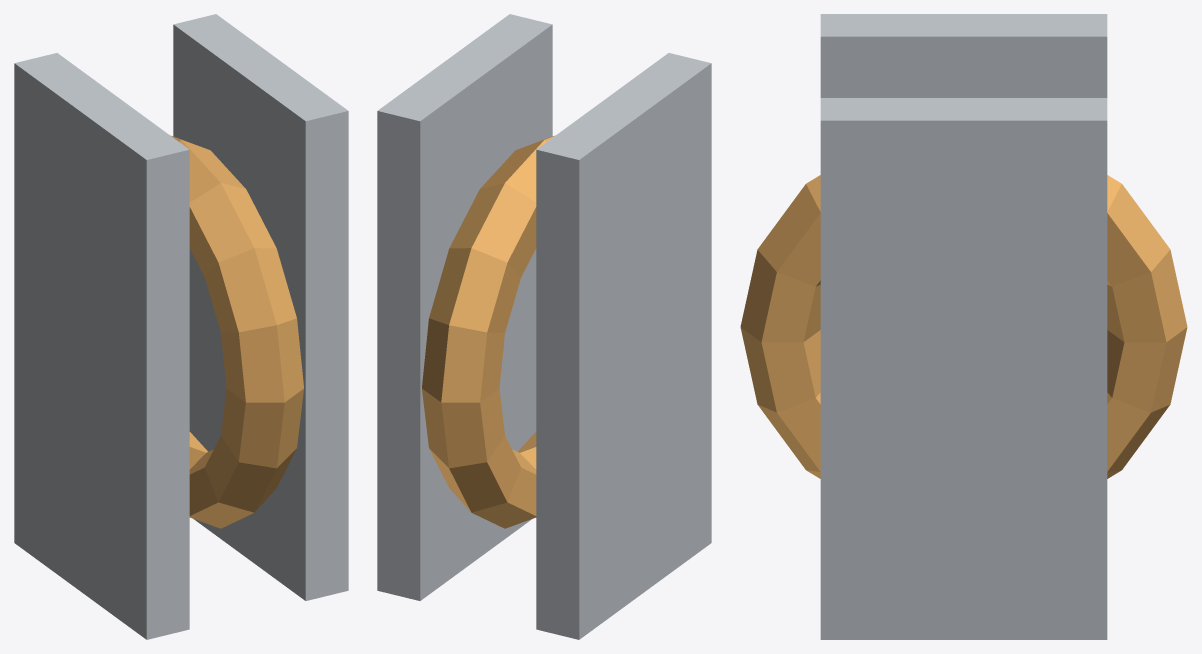
Rendered from pulley_block.glb.
The picture shows the model from 3 angles, left to right: view 1: azimuth 30°, elevation 25°; view 2: azimuth 150°, elevation 25°; view 3: azimuth 270°, elevation 25°; orthographic projection. The views are drawn at different scales.
Visible parts, largest first — view 1: MetalBody, HousingAccent; view 2: MetalBody, HousingAccent; view 3: MetalBody, HousingAccent.
Part boxes in pixels (x1,y1,x2,y2): MetalBody: (14, 14, 348, 639); HousingAccent: (170, 135, 303, 528); MetalBody: (377, 14, 711, 639); HousingAccent: (422, 135, 555, 528); MetalBody: (820, 14, 1107, 639); HousingAccent: (740, 175, 1187, 478).
Bounding box in the file's own units: 0.132 × 0.3 × 0.234.
